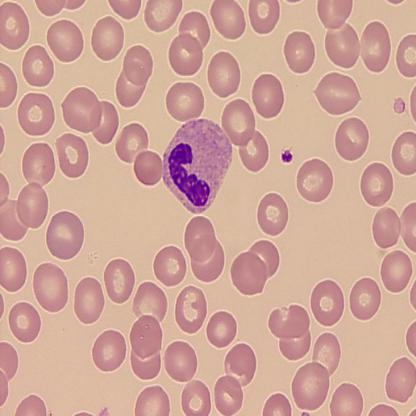Band Neutrophil: (160, 117, 234, 216)
